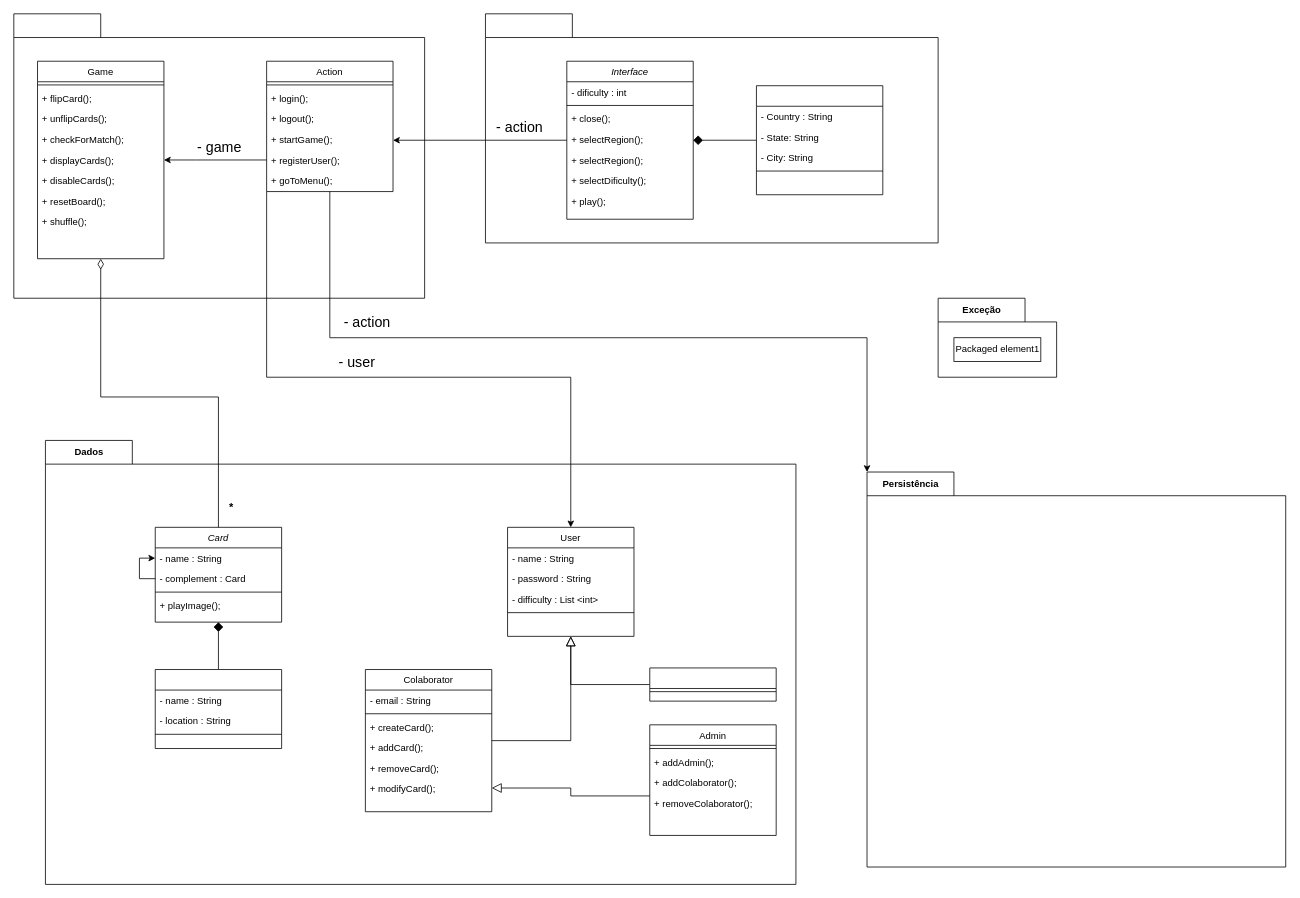
Image size: 1300x898. Some labels were removed from this diagram. The shapes that lost their labels are listed below. From the top down, each one's box as (x1, y1, x2, y2) in pixels, then its label:
(485, 13, 938, 243): Apresentação
(756, 85, 883, 195): Region
(13, 13, 425, 298): Negócio
(649, 667, 776, 701): Common
(154, 669, 282, 749): Image
